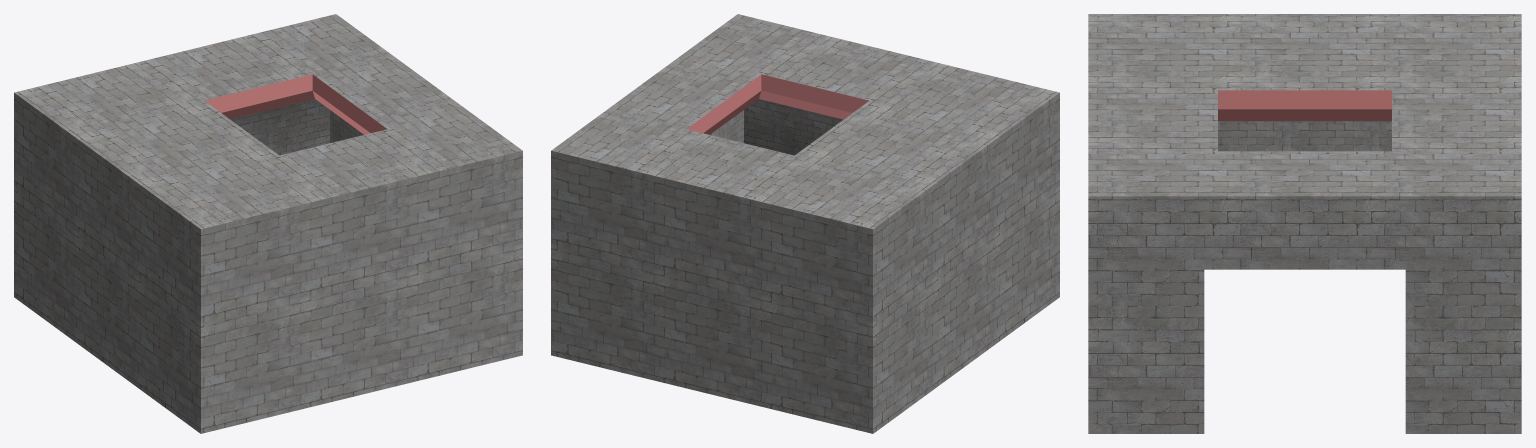
Rendered from Room.fbx.
3 views of the same model, side by side, from view 1: azimuth 30°, elevation 25°; view 2: azimuth 150°, elevation 25°; view 3: azimuth 270°, elevation 25° (orthographic). The views are drawn at different scales.
Visible parts, largest first — view 1: LV_Arena_MainRoom_SM_YSH; view 2: LV_Arena_MainRoom_SM_YSH; view 3: LV_Arena_MainRoom_SM_YSH.
Part boxes in pixels (x1=…): LV_Arena_MainRoom_SM_YSH: x1=14, y1=14, x2=522, y2=433; LV_Arena_MainRoom_SM_YSH: x1=551, y1=14, x2=1059, y2=433; LV_Arena_MainRoom_SM_YSH: x1=1088, y1=14, x2=1521, y2=433.
Bounding box in the file's own units: 4.06 × 2.46 × 4.08.
